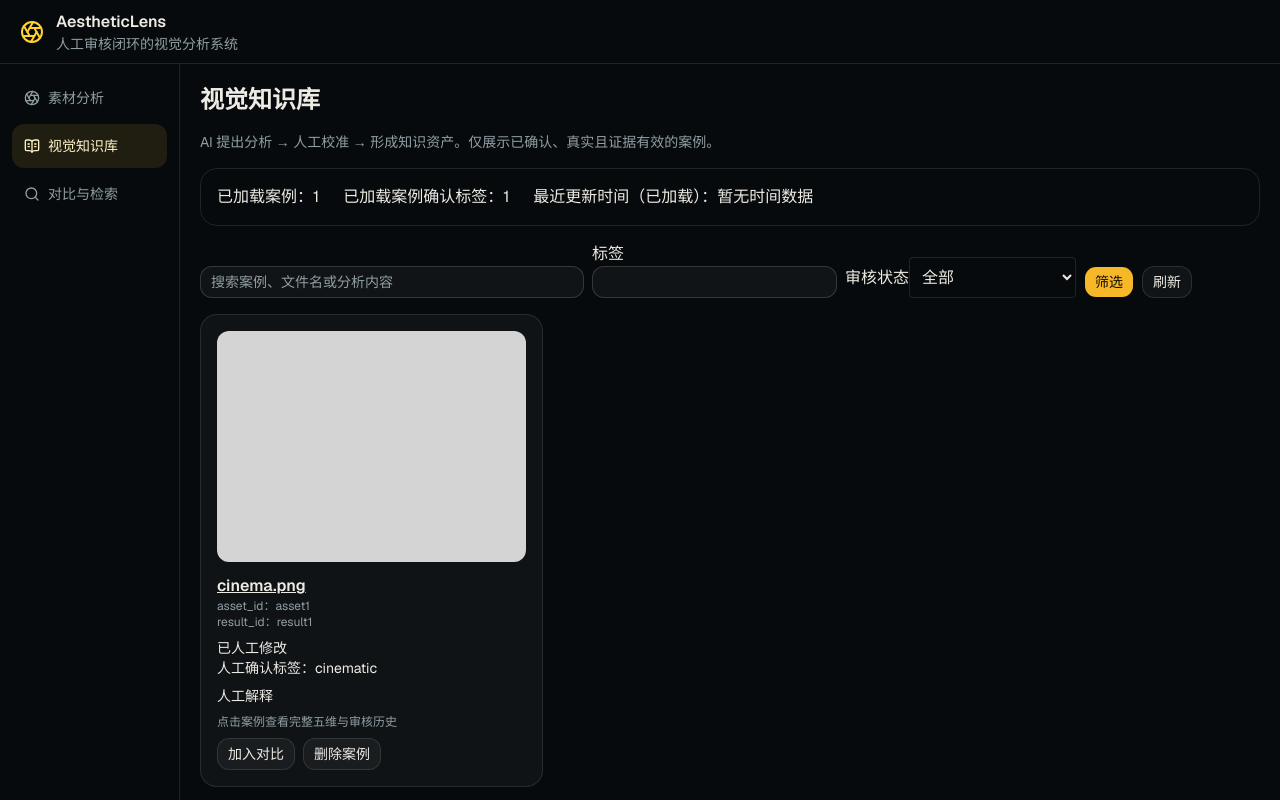
Scenario: loads metadata only and sends filters to the server rather than filtering a preloaded library
Expected: the link "cinema.png" is shown, [217,576,306,596]
Select "已确认" in the dropdown named "按审核状态筛选": (992, 278) [909,257,1076,298]
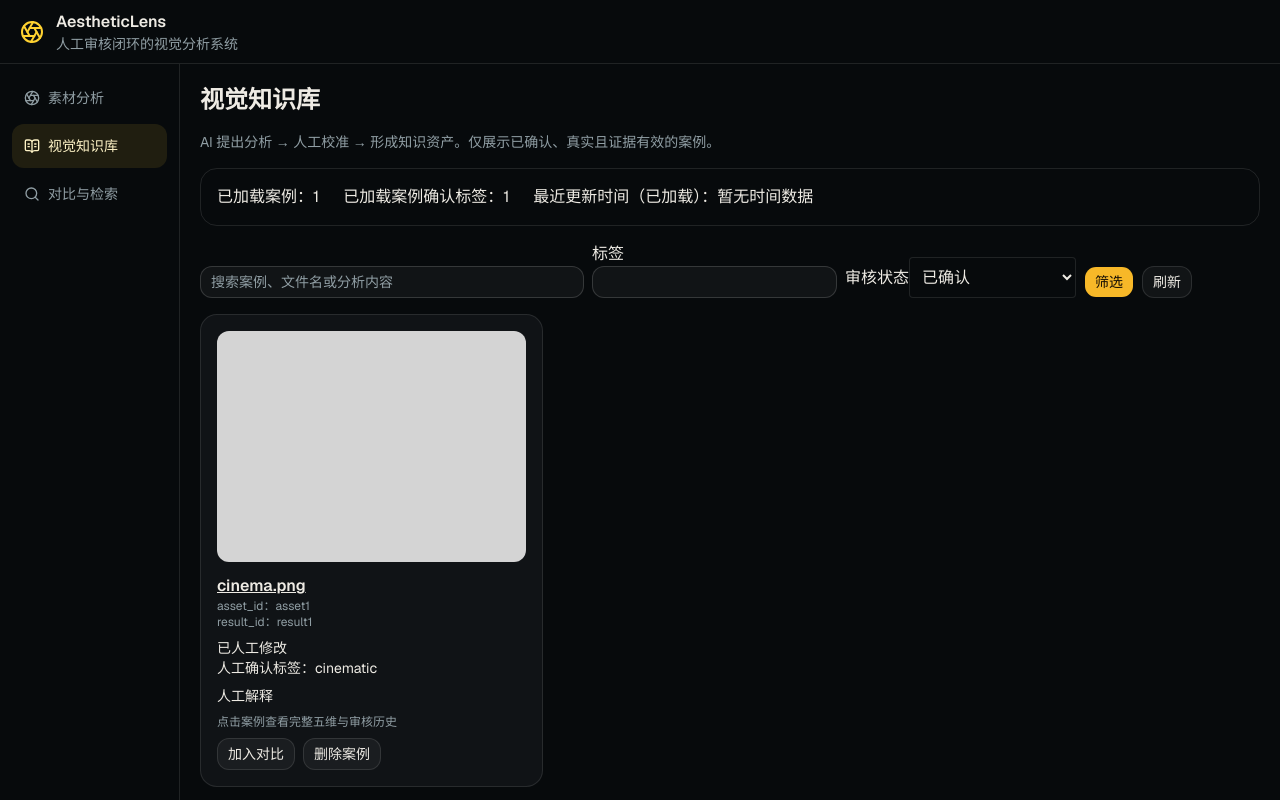
In the field named "按标签筛选": (714, 282) [592,266,837,298], type "cinematic"
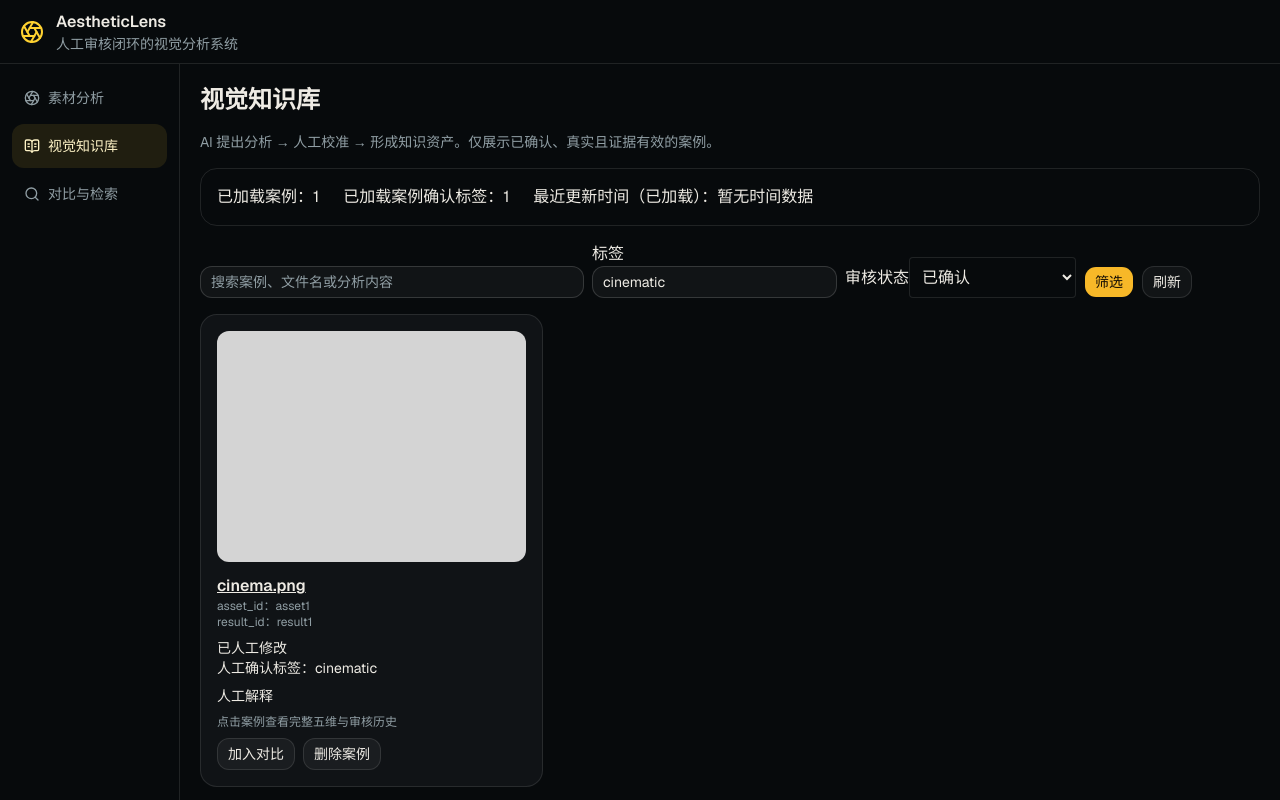
In the field labelled "搜索案例": (392, 282) [200,266,584,298], type "no match"
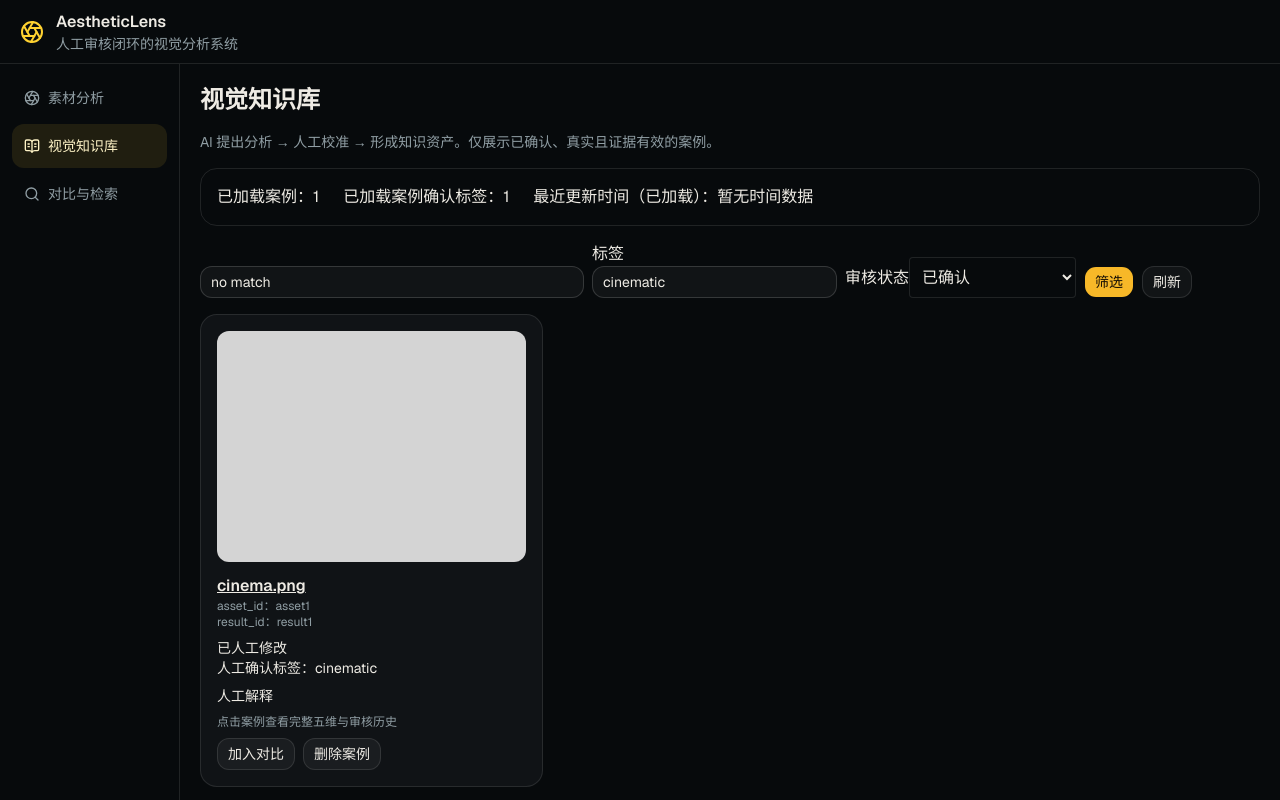
Click the button "筛选": (1109, 282) [1084,266,1134,298]
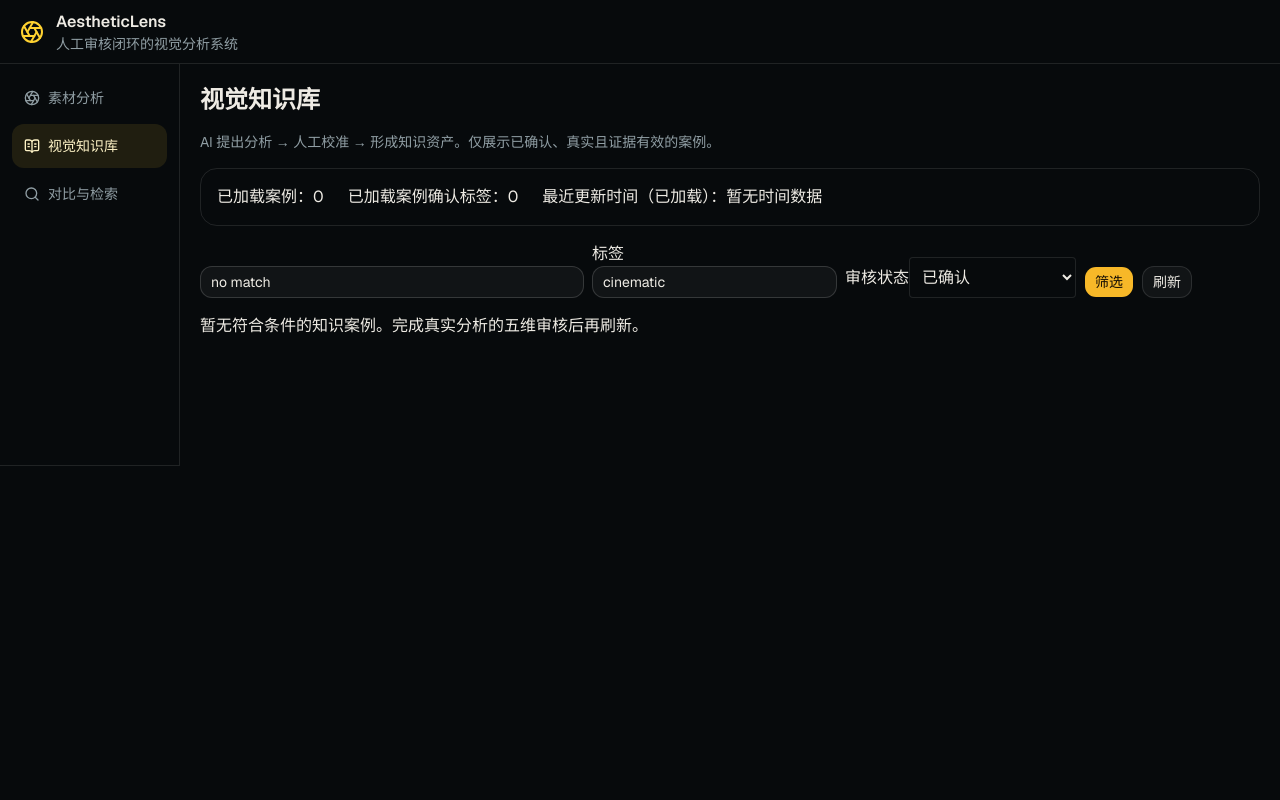
Expected: the link "cinema.png" is gone
